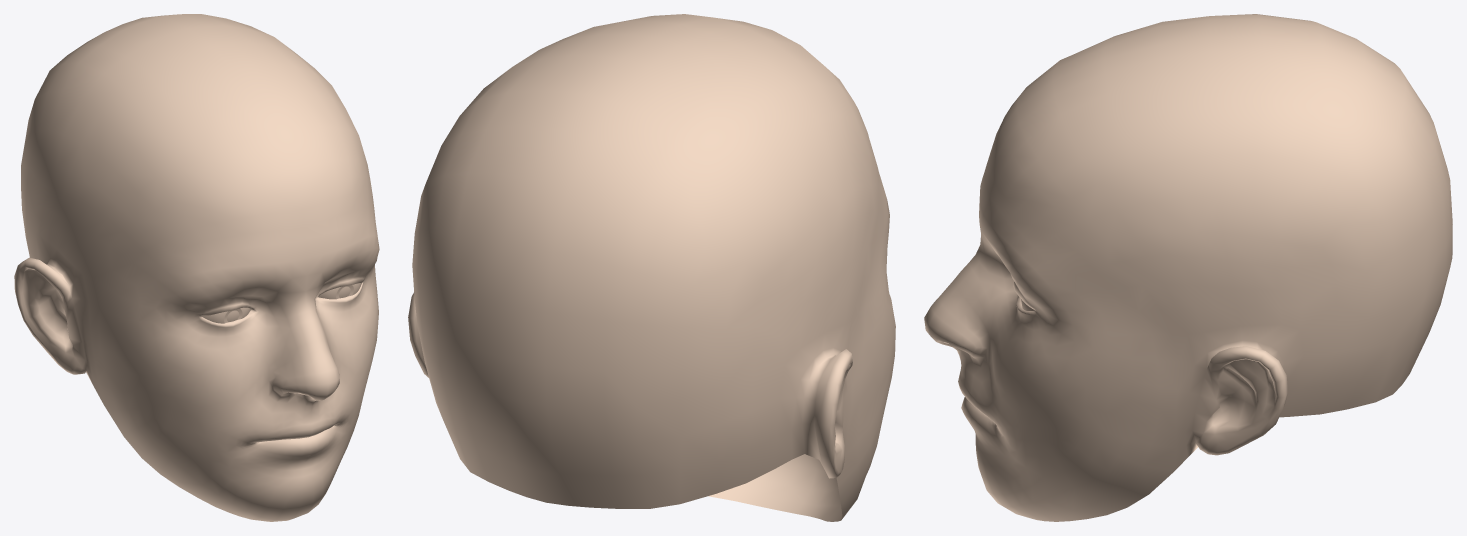
File: avatar.glb
3 renders of one model, left to right at view 1: azimuth 30°, elevation 25°; view 2: azimuth 150°, elevation 25°; view 3: azimuth 270°, elevation 25°, orthographic. The views are drawn at different scales.
Visible parts, largest first — view 1: head, eyeLeft; view 2: head; view 3: head.
Part boxes in pixels (x1,y1,x2,y2): head: [14, 14, 379, 521]; eyeLeft: [201, 307, 250, 323]; head: [408, 14, 895, 521]; head: [924, 14, 1452, 521].
Bounding box in the file's own units: 1.9 × 2.34 × 2.36.
